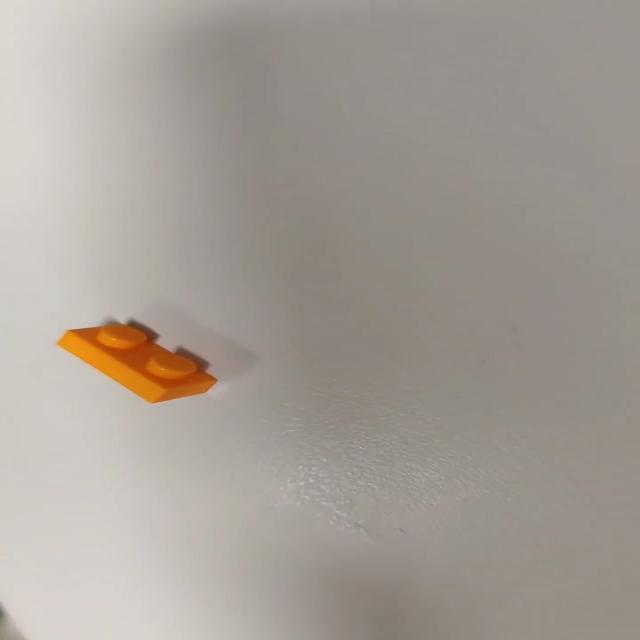C2x1x0: (54, 320, 224, 404)
